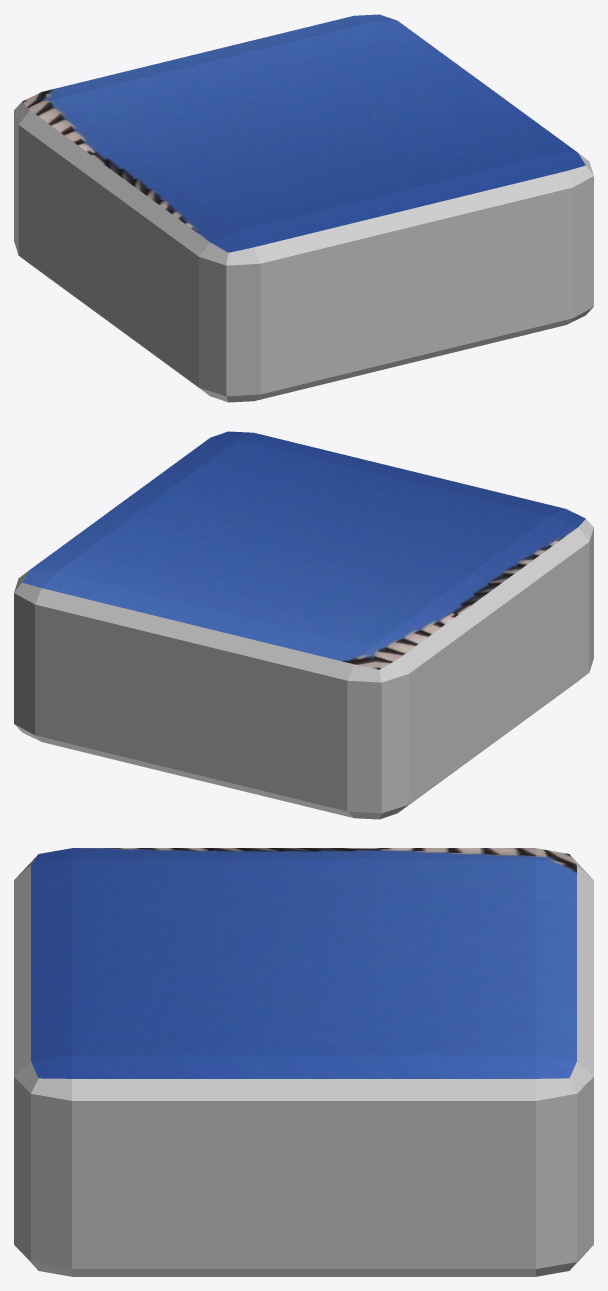
Rendered from peça2.obj.
3 renders of one model, top to bottom at view 1: azimuth 30°, elevation 25°; view 2: azimuth 150°, elevation 25°; view 3: azimuth 270°, elevation 25°, orthographic. The views are drawn at different scales.
Parts seen in each view (by area): view 1: Cubo.006; view 2: Cubo.006; view 3: Cubo.006.
Part boxes in pixels (x1,y1,x2,y2): Cubo.006: (14, 14, 593, 402); Cubo.006: (14, 431, 593, 819); Cubo.006: (14, 848, 593, 1276).
Bounding box in the file's own units: 0.5 × 0.2 × 0.5.
